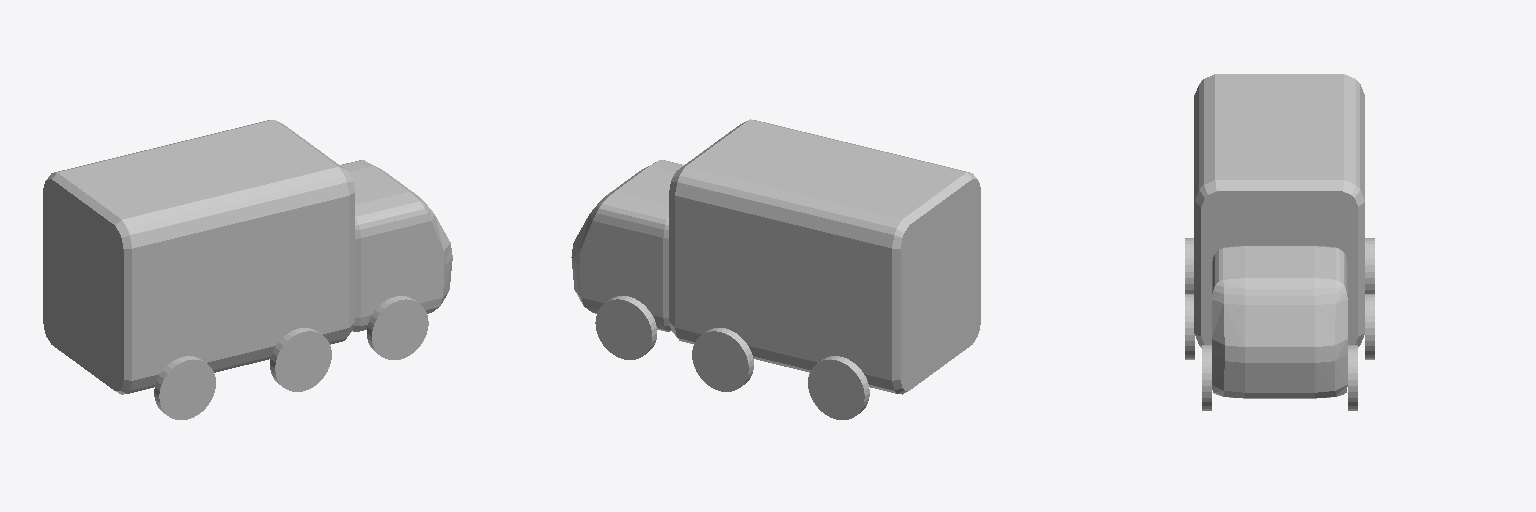
Rendered from car.obj.
The picture shows the model from 3 angles: view 1: azimuth 30°, elevation 25°; view 2: azimuth 150°, elevation 25°; view 3: azimuth 270°, elevation 25°; orthographic projection.
Visible parts, largest first — view 1: Cube_Cube.001, Cube.001_Cube.002, Cylinder.004, Cylinder.001, Cylinder; view 2: Cube_Cube.001, Cube.001_Cube.002, Cylinder.002, Cylinder.003, Cylinder.005; view 3: Cube_Cube.001, Cube.001_Cube.002, Cylinder.003, Cylinder.004, Cylinder.005, Cylinder.001, Cylinder.002.
Part boxes in pixels (bbox=[...]): Cube_Cube.001: bbox=[43, 120, 354, 394]; Cube.001_Cube.002: bbox=[340, 160, 452, 331]; Cylinder.004: bbox=[367, 296, 428, 359]; Cylinder.001: bbox=[270, 328, 331, 391]; Cylinder: bbox=[154, 356, 215, 419]; Cube_Cube.001: bbox=[669, 119, 980, 394]; Cube.001_Cube.002: bbox=[571, 160, 683, 331]; Cylinder.002: bbox=[808, 356, 869, 419]; Cylinder.003: bbox=[692, 328, 753, 391]; Cylinder.005: bbox=[595, 296, 656, 359]; Cube_Cube.001: bbox=[1194, 74, 1364, 347]; Cube.001_Cube.002: bbox=[1212, 246, 1347, 398]; Cylinder.003: bbox=[1365, 294, 1374, 359]; Cylinder.004: bbox=[1202, 345, 1211, 410]; Cylinder.005: bbox=[1348, 345, 1357, 410]; Cylinder.001: bbox=[1185, 294, 1194, 359]; Cylinder.002: bbox=[1365, 238, 1374, 293].
Size of the model in its own units: 2.1 by 1.17 by 1.